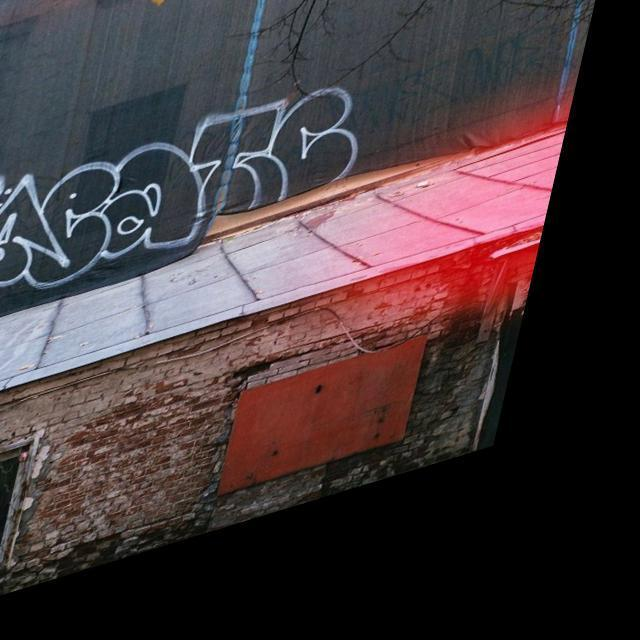-: (0, 37, 428, 354), (0, 156, 36, 268)
